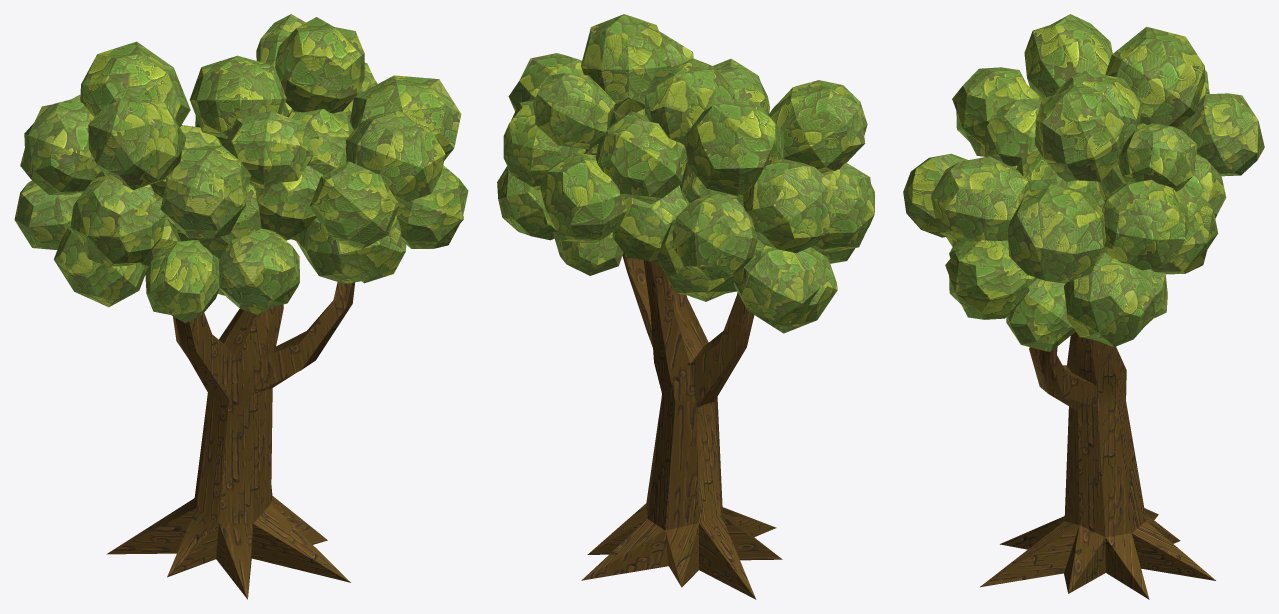
File: StylisedTree2.fbx
3 renders of one model, left to right at view 1: azimuth 30°, elevation 25°; view 2: azimuth 150°, elevation 25°; view 3: azimuth 270°, elevation 25°, orthographic.
Parts seen in each view (by area): view 1: Tree2; view 2: Tree2; view 3: Tree2.
Boxes of the visible parts, bbox=[...] form: Tree2: bbox=[14, 14, 468, 599]; Tree2: bbox=[497, 14, 874, 599]; Tree2: bbox=[903, 14, 1264, 599].
Bounding box in the file's own units: 5.17 × 6.88 × 4.44.
